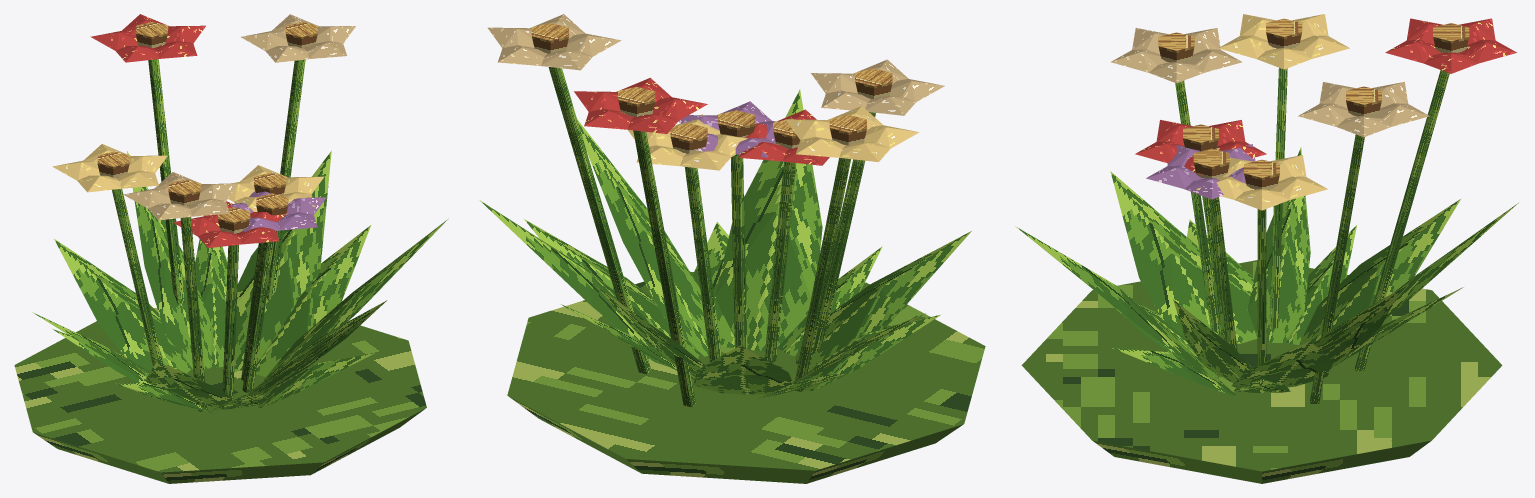
Rendered from prairie_flower_clump.glb.
3 renders of one model, left to right at view 1: azimuth 30°, elevation 25°; view 2: azimuth 150°, elevation 25°; view 3: azimuth 270°, elevation 25°, orthographic. The views are drawn at different scales.
Visible parts, largest first — view 1: prairie_flower_clump; view 2: prairie_flower_clump; view 3: prairie_flower_clump.
Part boxes in pixels (x1,y1,x2,y2): prairie_flower_clump: (14,14,448,483); prairie_flower_clump: (479,14,985,483); prairie_flower_clump: (1015,14,1518,483).
Bounding box in the file's own units: 10 × 8 × 10.
Materials: 1 (1 with a texture image).
